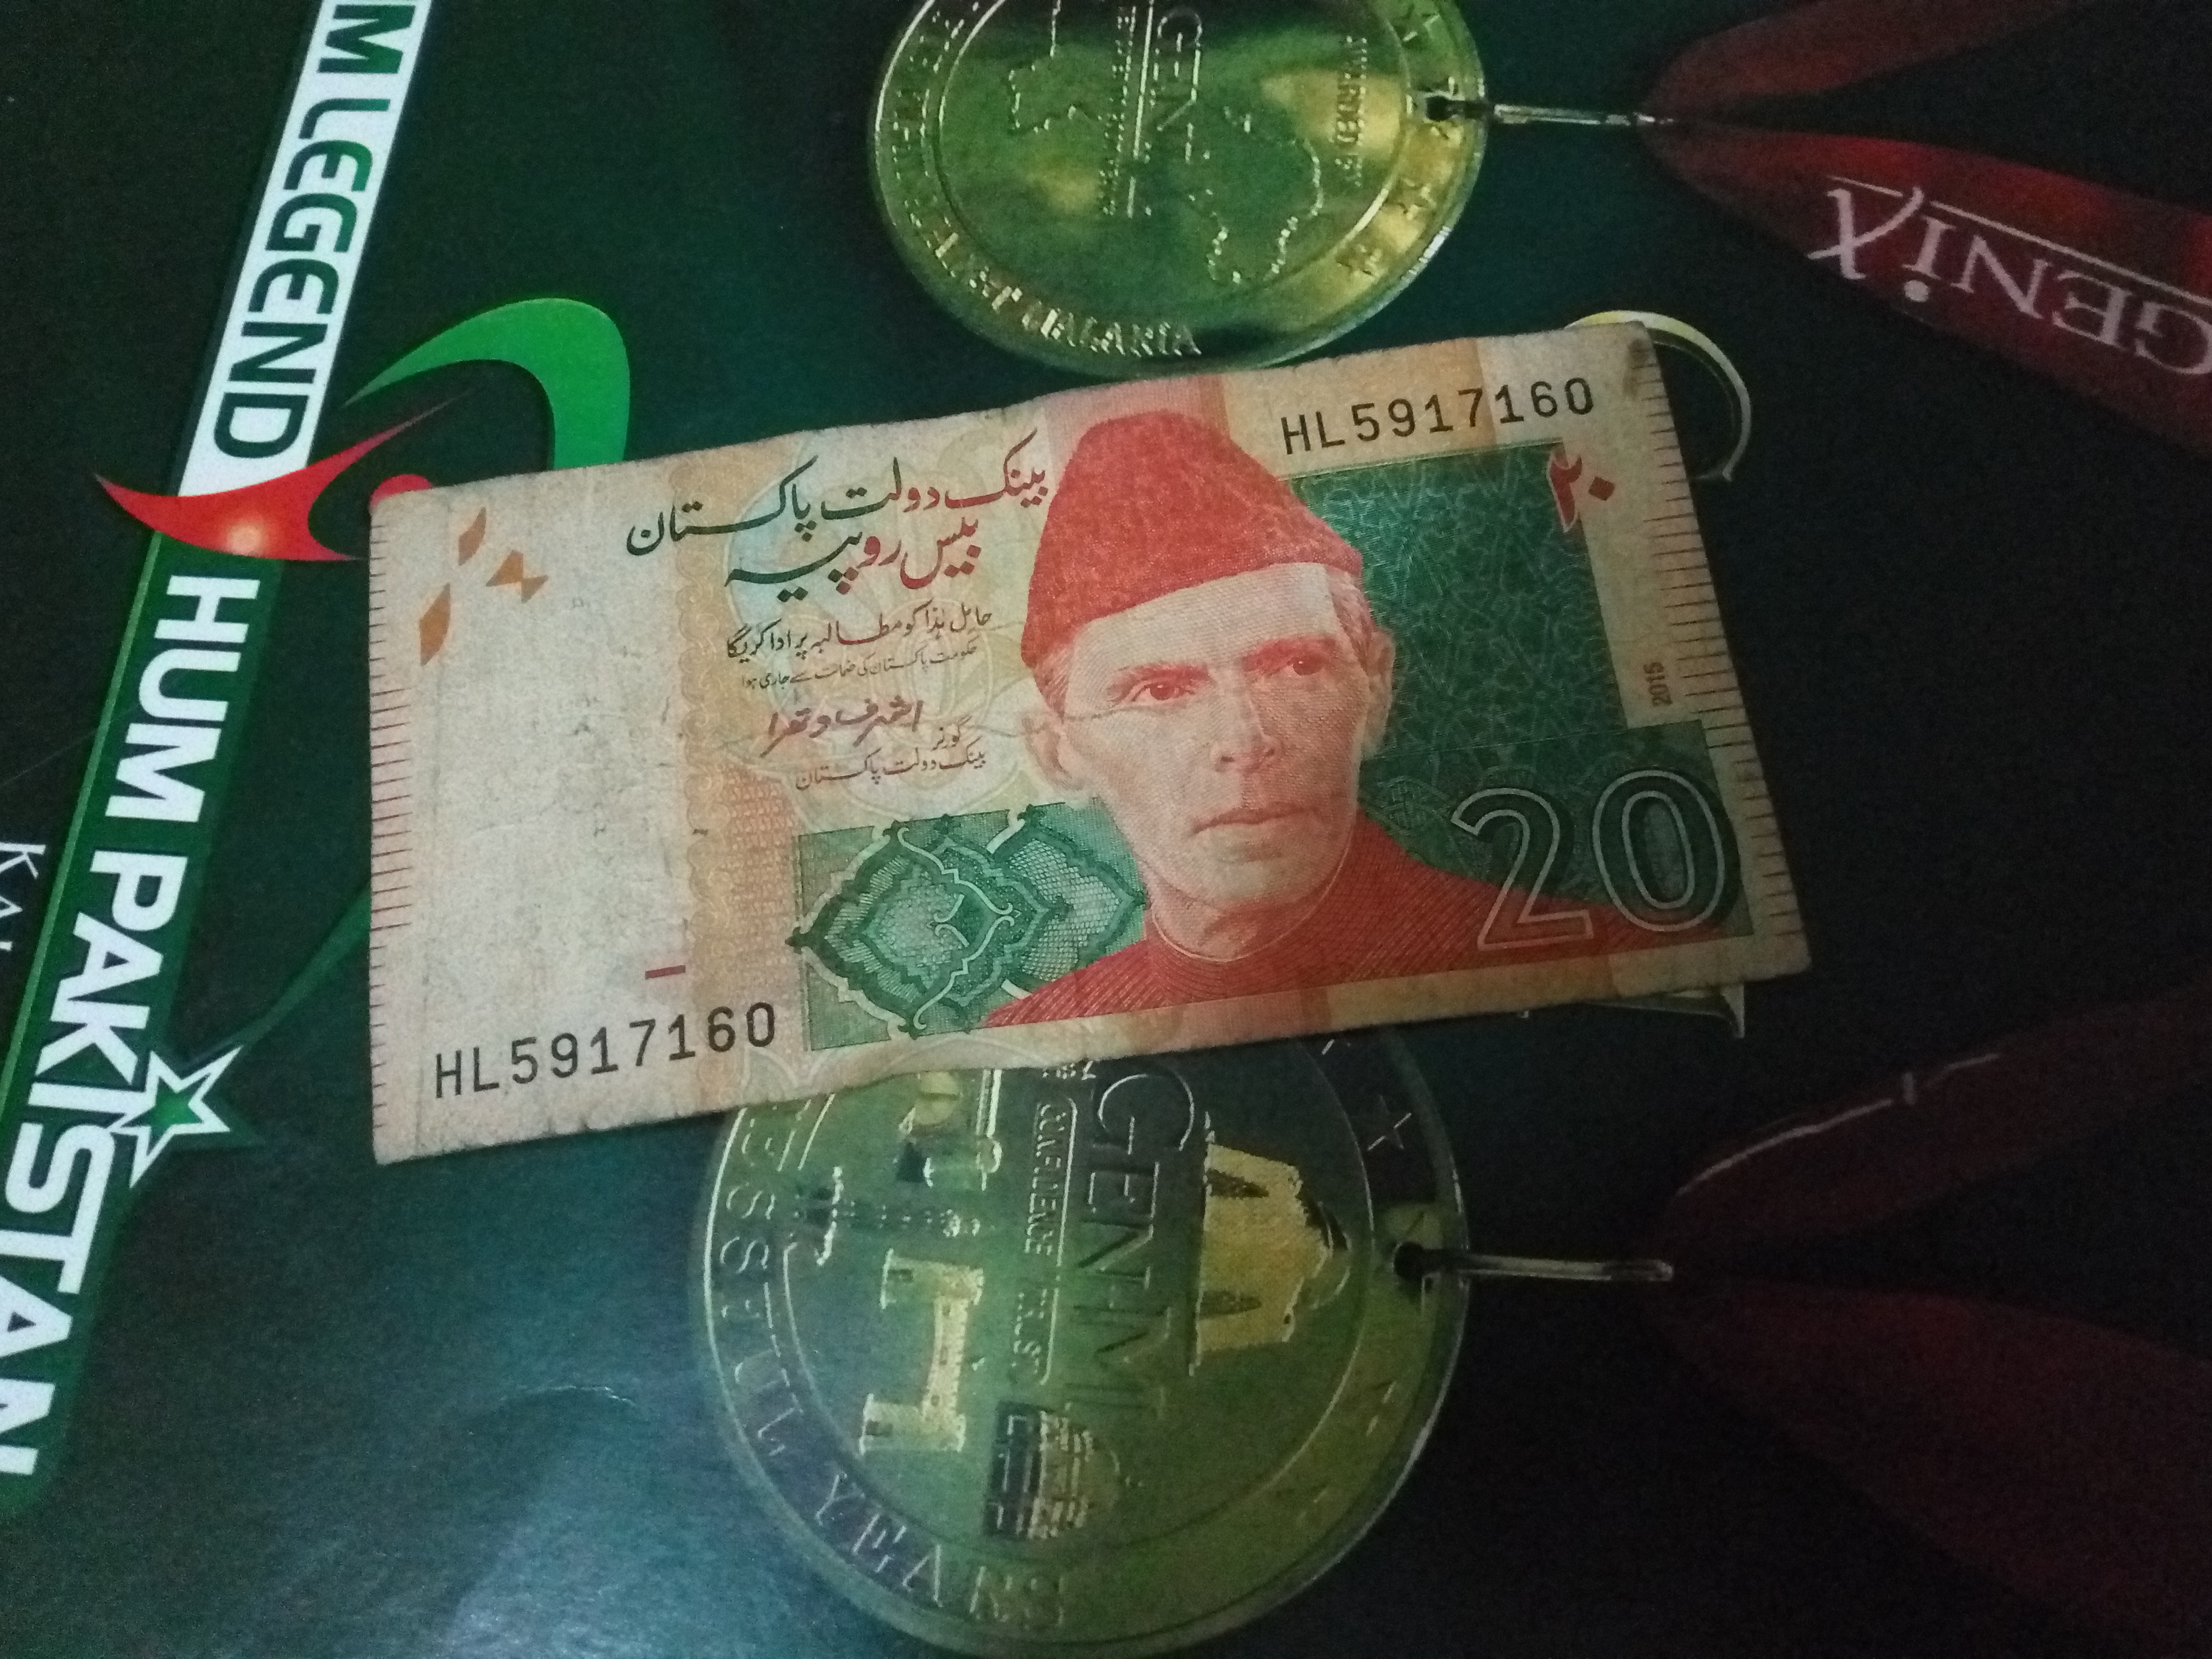20 rupee: (340, 310, 1855, 1178)
